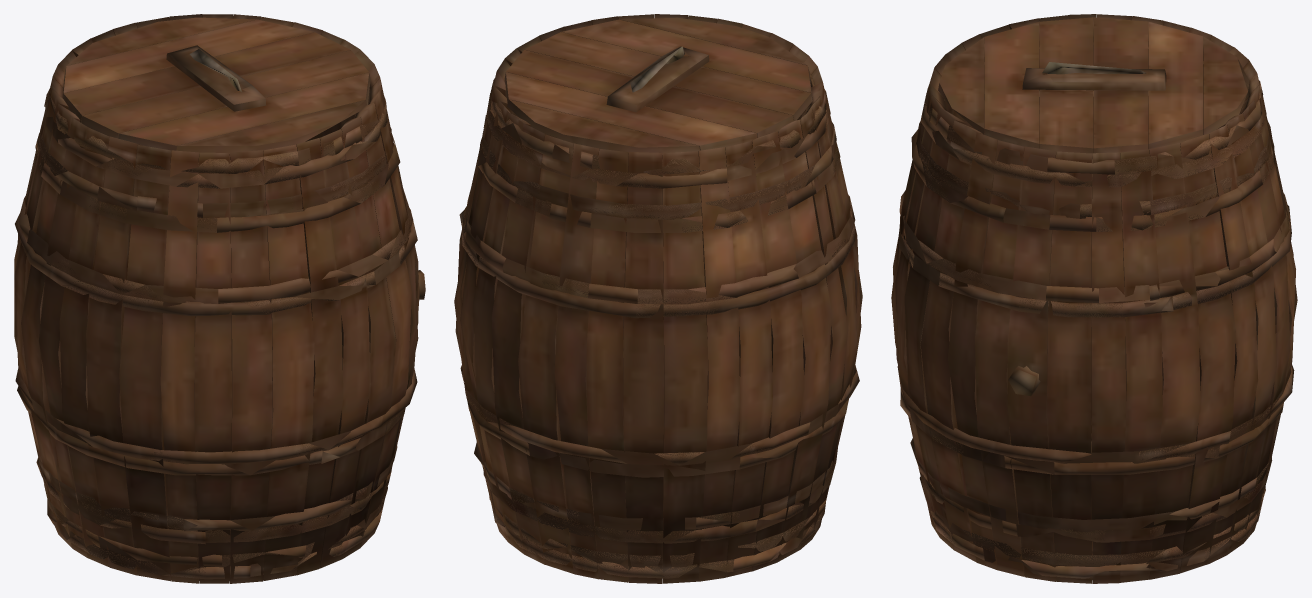
File: barrel.ed9b2d74.glb
3 views of the same model, side by side, from view 1: azimuth 30°, elevation 25°; view 2: azimuth 150°, elevation 25°; view 3: azimuth 270°, elevation 25° (orthographic).
Visible parts, largest first — view 1: wooden_barrels_01_barrel01; view 2: wooden_barrels_01_barrel01; view 3: wooden_barrels_01_barrel01.
Part boxes in pixels (x1,y1,x2,y2): wooden_barrels_01_barrel01: (14, 14, 425, 583); wooden_barrels_01_barrel01: (454, 14, 862, 583); wooden_barrels_01_barrel01: (891, 14, 1297, 583).
Bounding box in the file's own units: 0.743 × 0.9133 × 0.743.
Materials: 1 (1 with a texture image).
